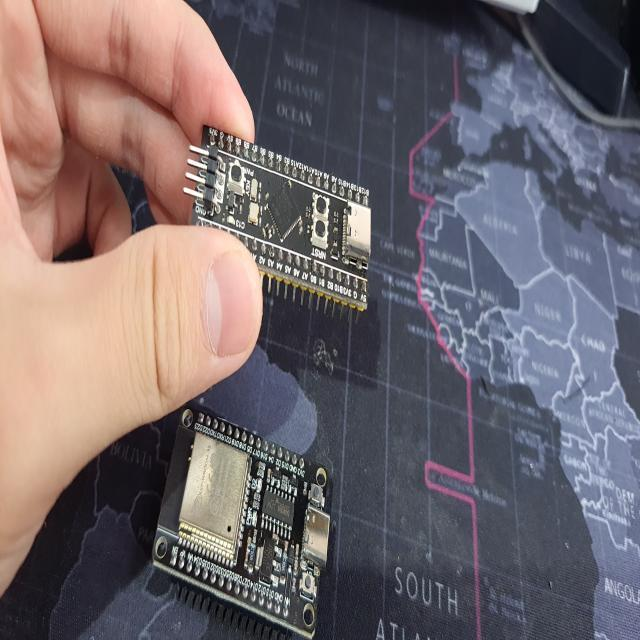ESP32: (154, 408, 331, 640)
STM32: (186, 130, 372, 311)
